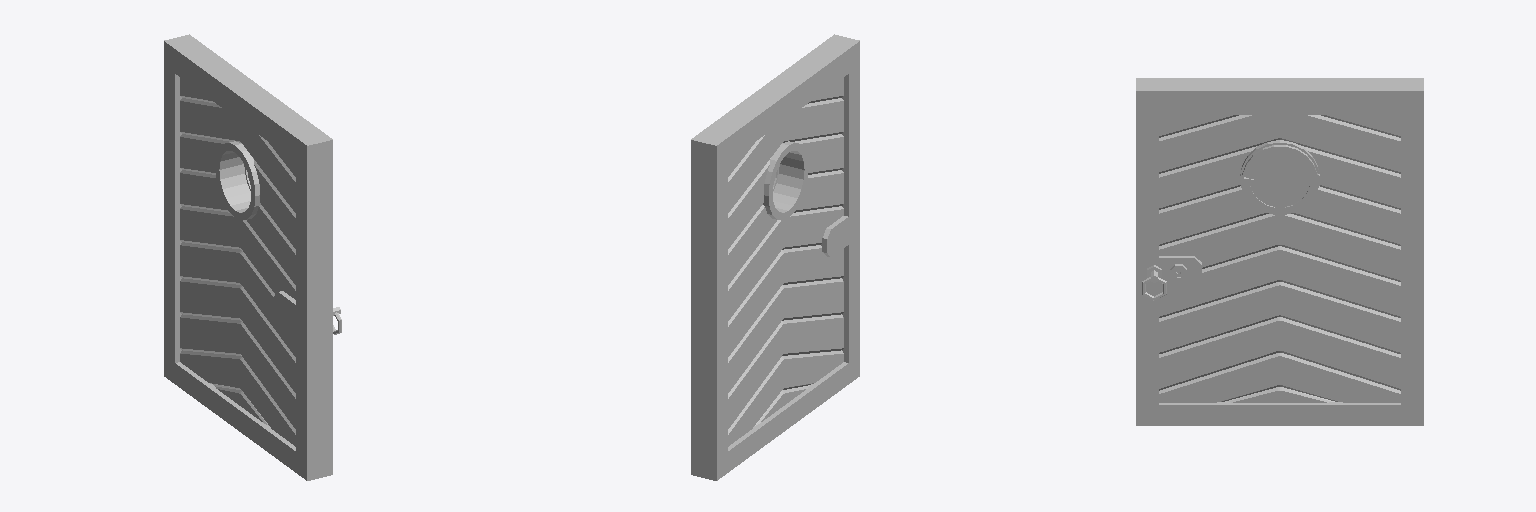
File: door_outside.obj
3 renders of one model, left to right at view 1: azimuth 30°, elevation 25°; view 2: azimuth 150°, elevation 25°; view 3: azimuth 270°, elevation 25°, orthographic.
Visible parts, largest first — view 1: pCube13; view 2: pCube13; view 3: pCube13.
Boxes of the visible parts, box(x1,y1,x2,y2) form: pCube13: box(164, 34, 341, 480); pCube13: box(691, 34, 859, 480); pCube13: box(1136, 78, 1423, 425).
Bounding box in the file's own units: 0.3412 × 2.65 × 2.06.